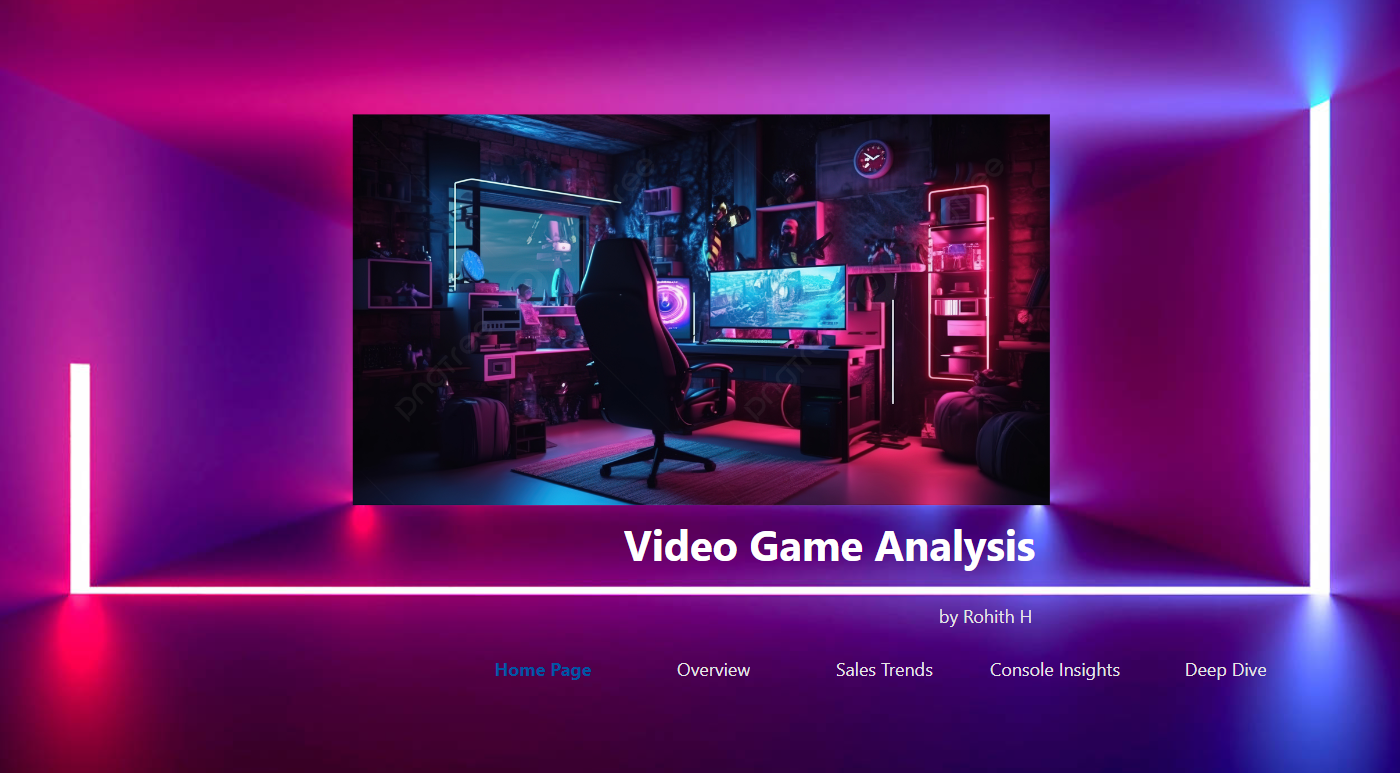

This screenshot's page, from the dashboard's own definition file:
{"tool":"powerbi","page":{"name":"Home Page","canvas":[1280,720],"ordinal":0},"visuals":[{"type":"image","box":[320.5,106.4,639.7,357.7],"z":0},{"type":"textbox","box":[566.7,464.1,389.7,78.2],"z":1000},{"type":"pageNavigator","box":[428.2,579.5,752.6,50],"z":2000},{"type":"textbox","box":[847.4,542.3,109,37.2],"z":3000}]}

Visuals, with their boxes in screenshot pixels (x1, y1, x2, y2), scaled from the page's 1280x720 canvas onto the 1400x773 screenshot:
image: [left=351, top=114, right=1050, bottom=498]
textbox: [left=620, top=498, right=1046, bottom=582]
pageNavigator: [left=468, top=622, right=1292, bottom=676]
textbox: [left=927, top=582, right=1046, bottom=622]
